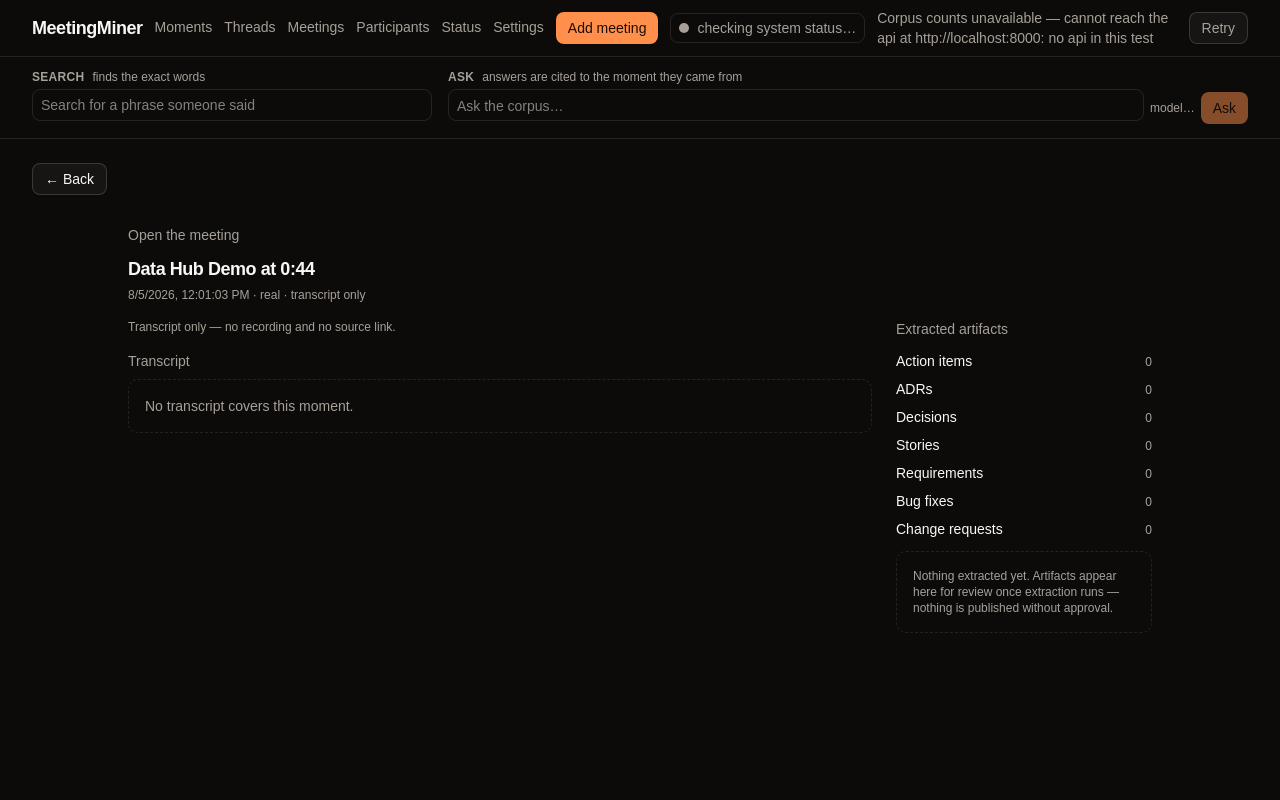
reaching the meeting from a moment, through the real shell › lands on the meeting drill-down, not the unknown-path catch-all
Click the button with aria-label "Open the meeting:": x=184, y=235 left=128, top=219, right=239, bottom=251
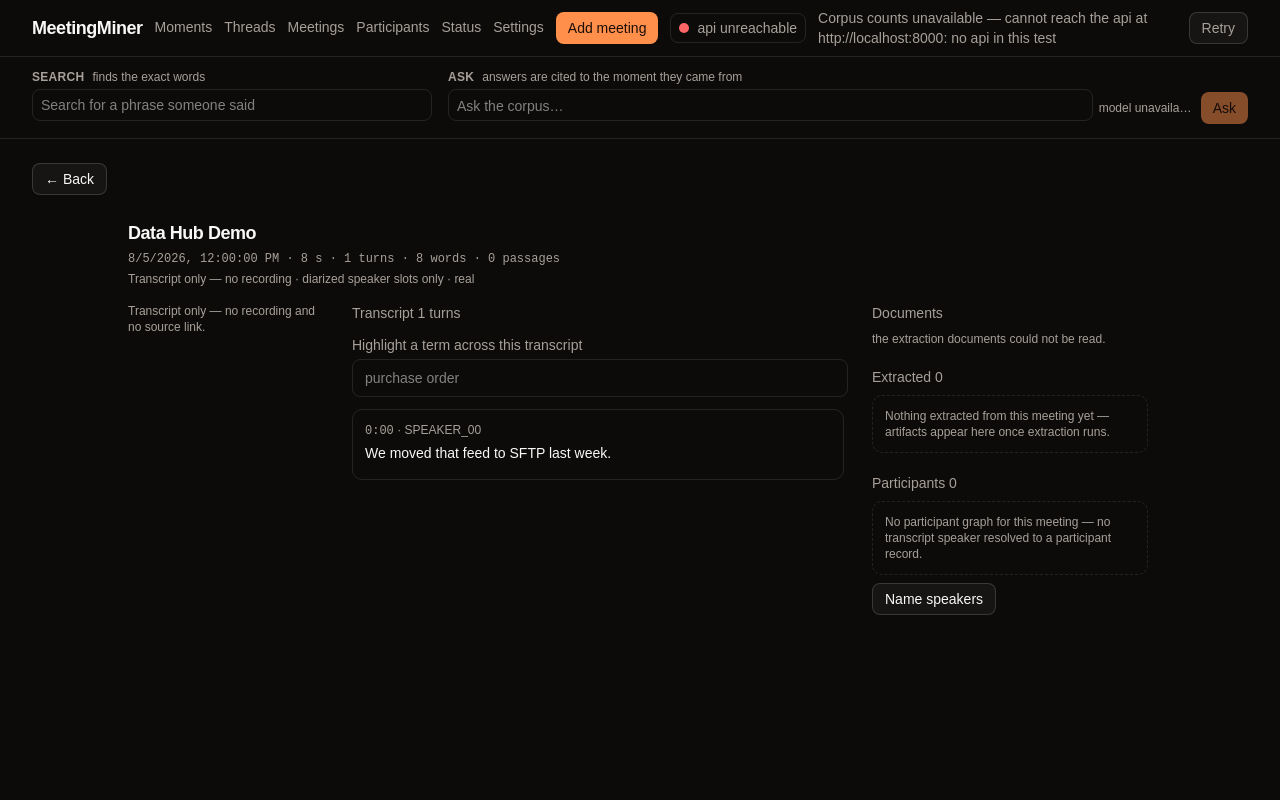
Now the list with test id "drilldown-transcript" is shown, box left=352, top=409, right=848, bottom=480
